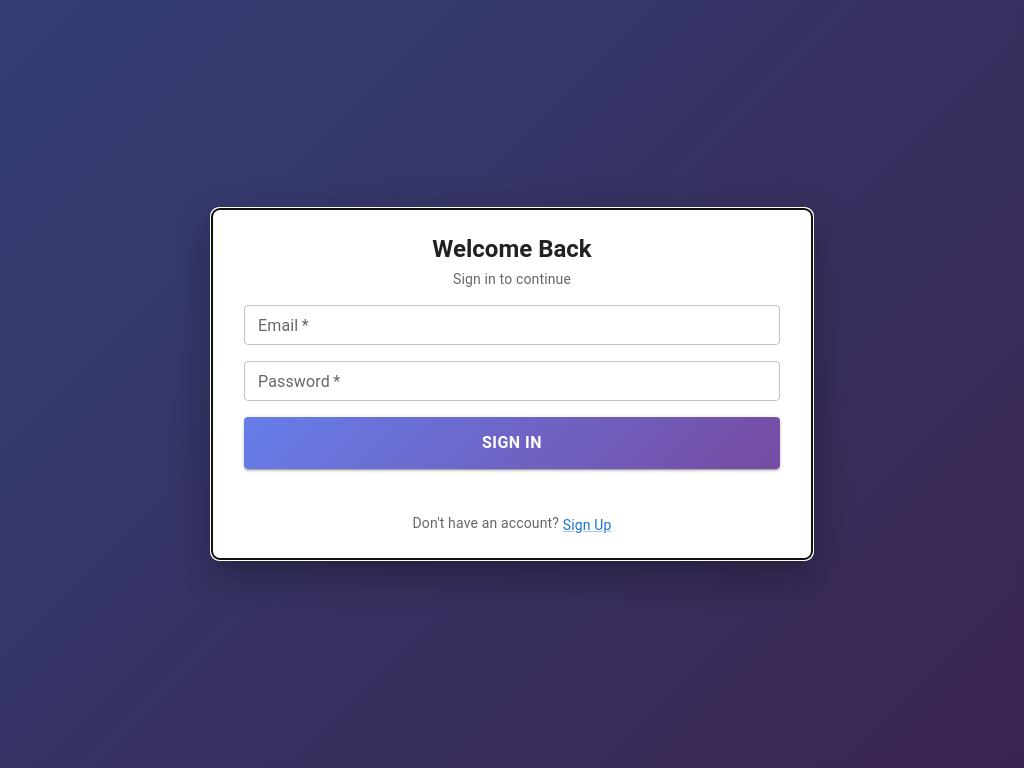
Test: AuthModal › Register Functionality › should handle registration error with timing
// Switch to register mode
Click the button "Sign Up". click: x=587, y=525
box: [563, 515, 612, 535]
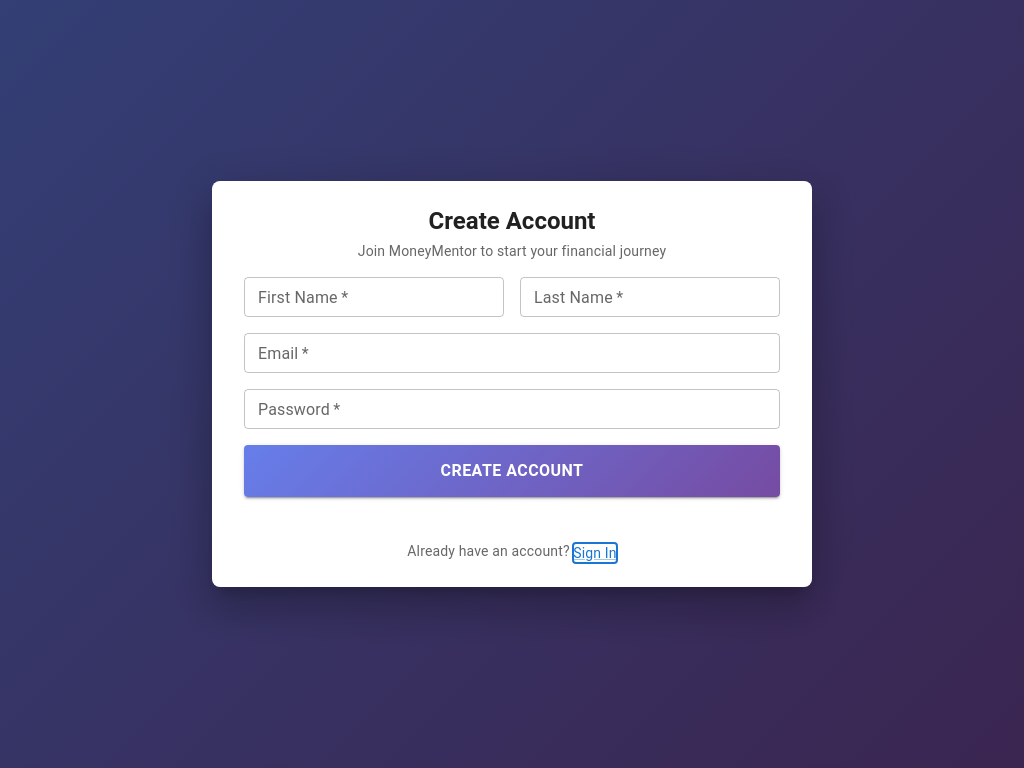
Type "John" into the field labelled "First Name *". click: x=374, y=297
box: [244, 277, 504, 317]
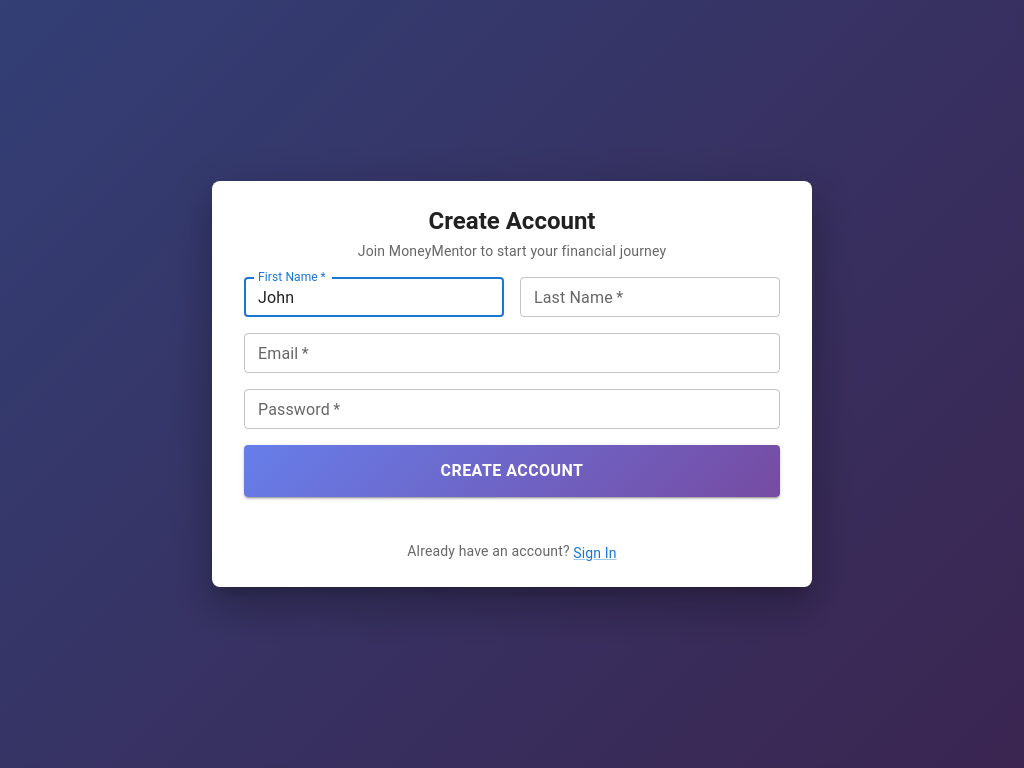
Type "Doe" into the field labelled "Last Name *". click: x=650, y=297
box: [520, 277, 780, 317]
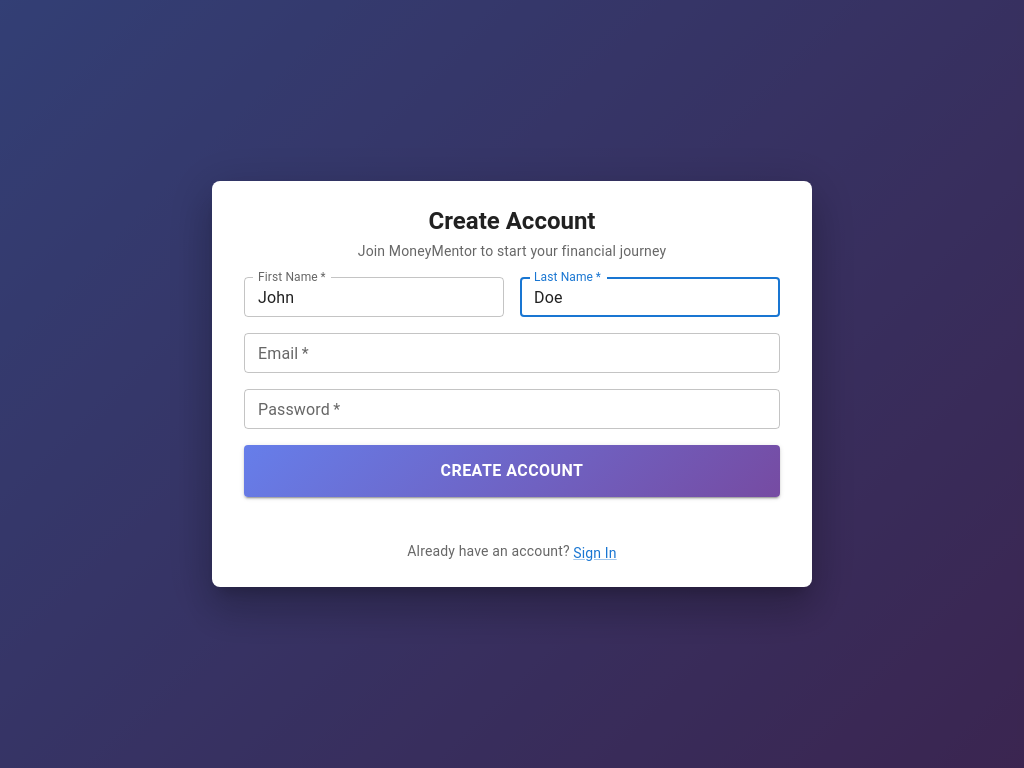
Type "existing@example.com" into the field labelled "Email *". click: x=512, y=353
box: [244, 333, 780, 373]
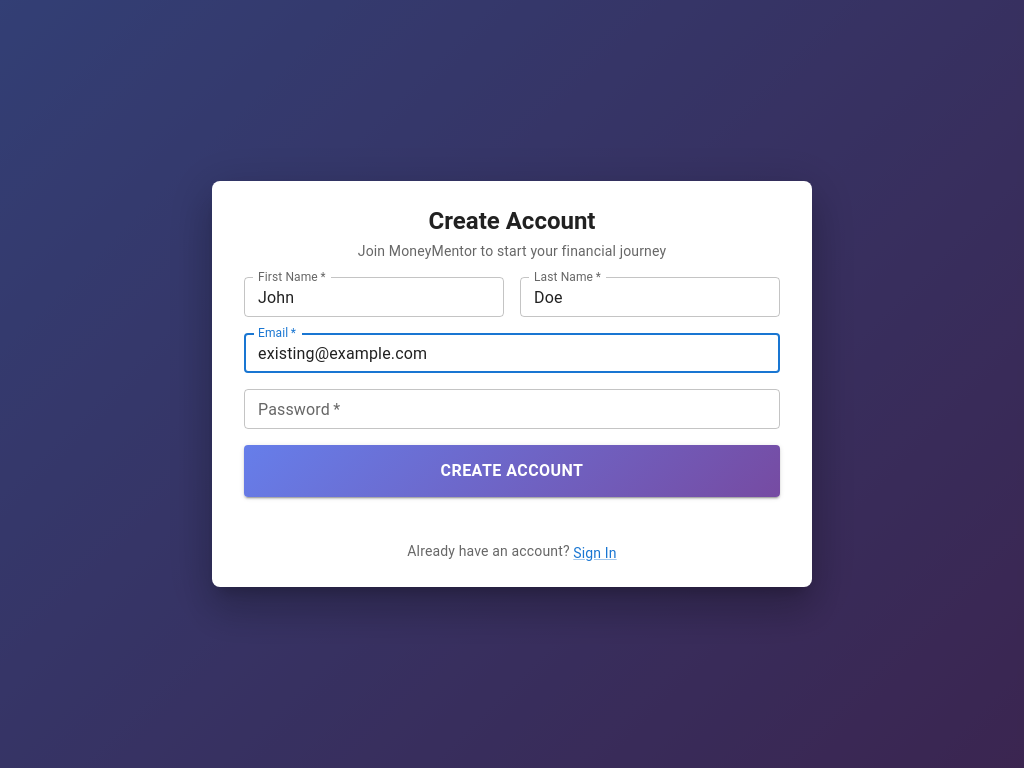
Type "password123" into the password field labelled "Password *". click: x=512, y=409
box: [244, 389, 780, 429]
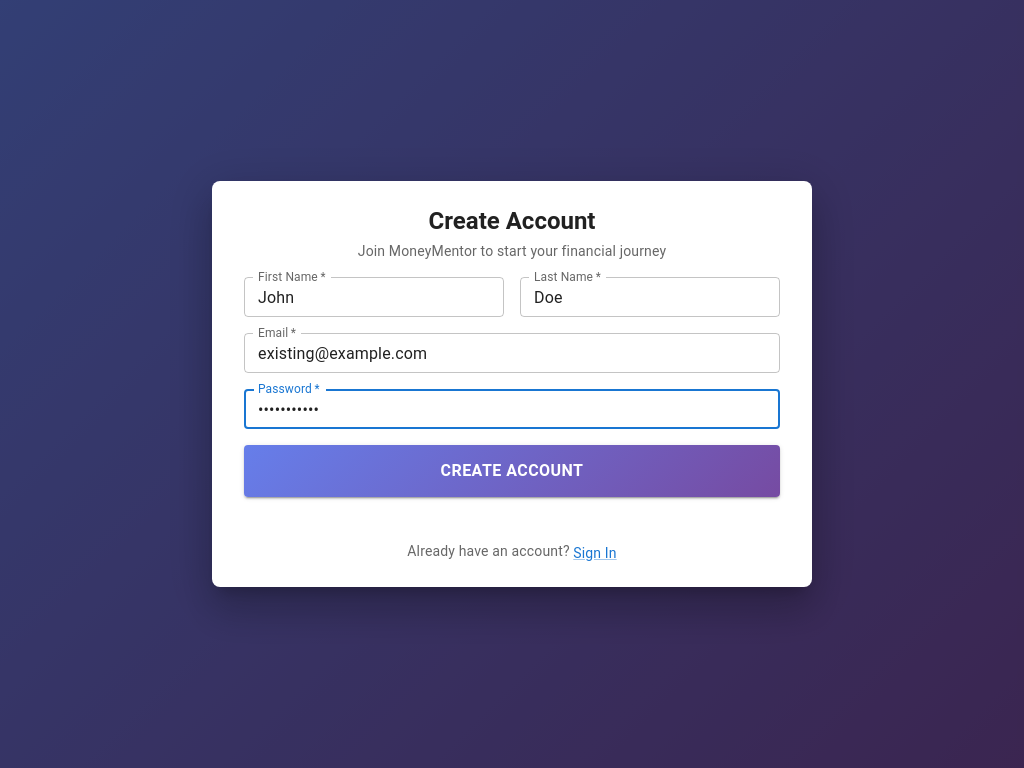
Click the button "Create Account". click: x=512, y=471
box: [244, 445, 780, 497]
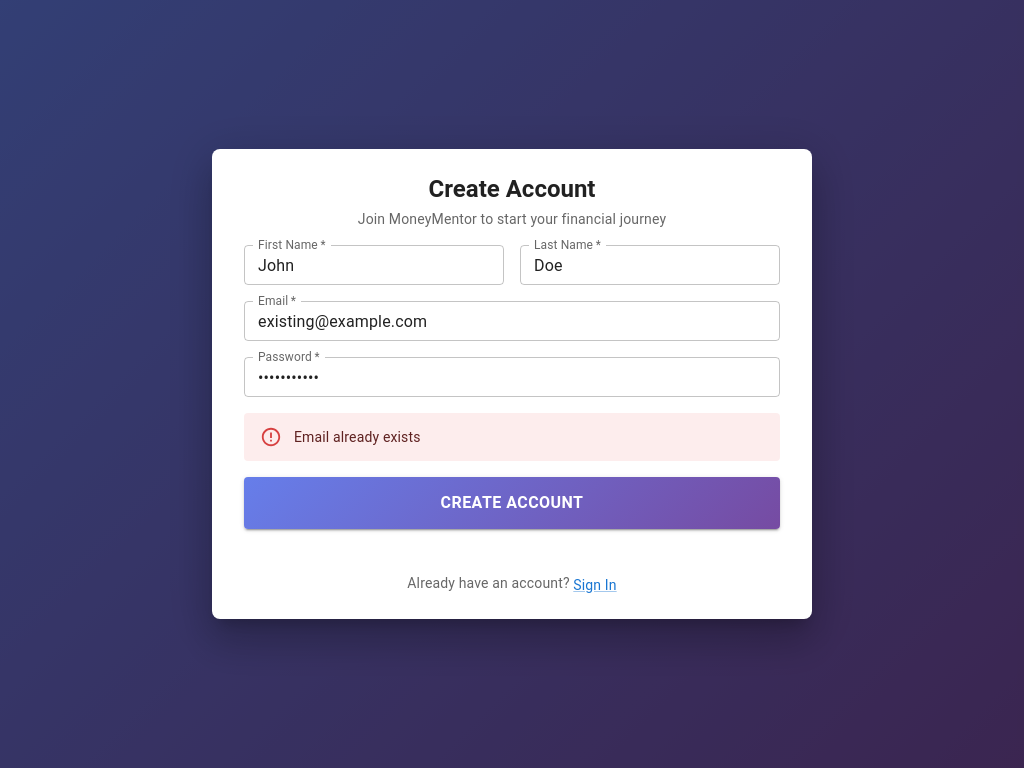
Expected: the text "Email already exists" is shown, [294, 429, 421, 445]
